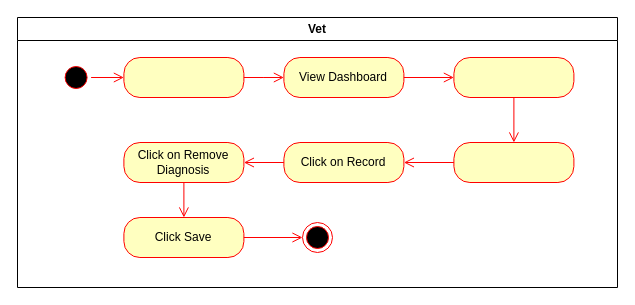
The diagram is 635 pixels wide and 305 high, and some of its shapes have lost their labels. Here are the shapes that lost their labels. From the top down, the centre of each, then its label:
At point (183, 77): "Login".
At point (513, 77): "Click on Patients".
At point (513, 162): "Click on a Patient".
